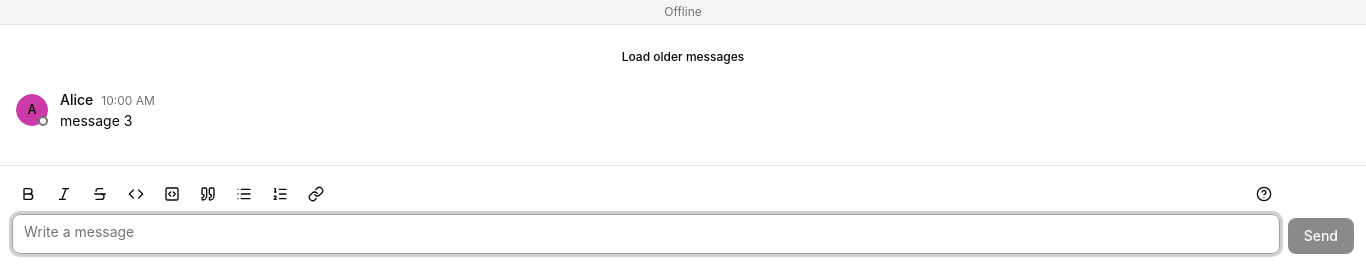
Scenario: loads older messages from the button and reports a failure
The image size is (1366, 279).
Expected: the text "message 3" is shown, [60,112,132,129]
Click the button "Load older messages".
click(683, 57)  # box [610,41,756,73]
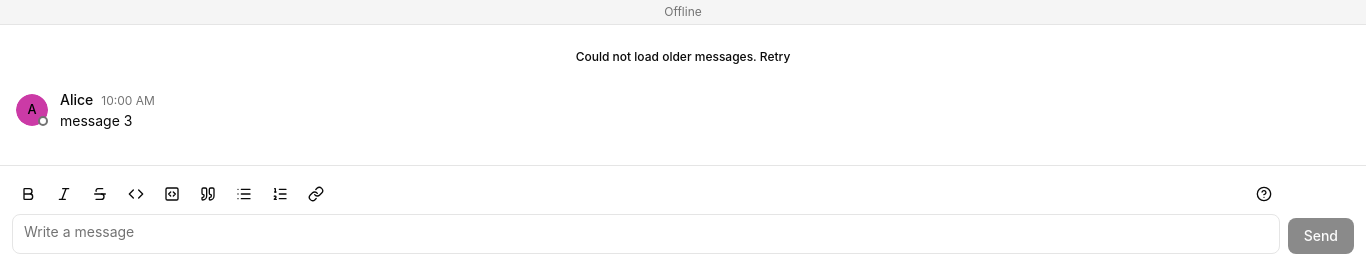
Click the button "Could not load older messages. Retry".
click(683, 57)  # box [564,41,802,73]
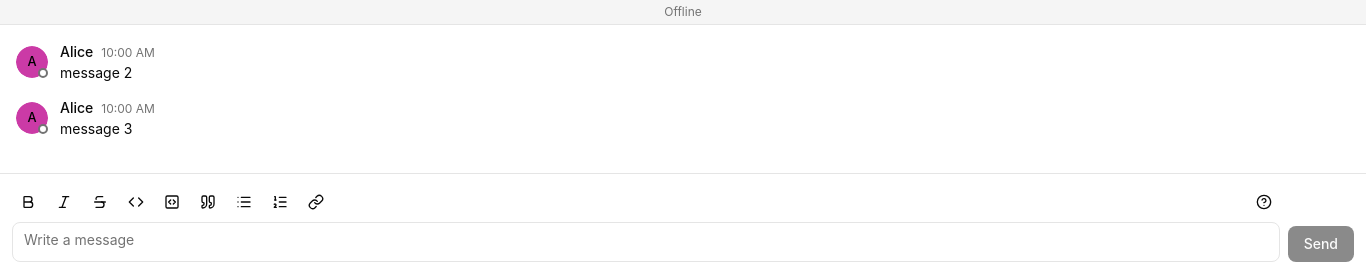
Now the text "message 2" is shown, box [60,64,132,81]
